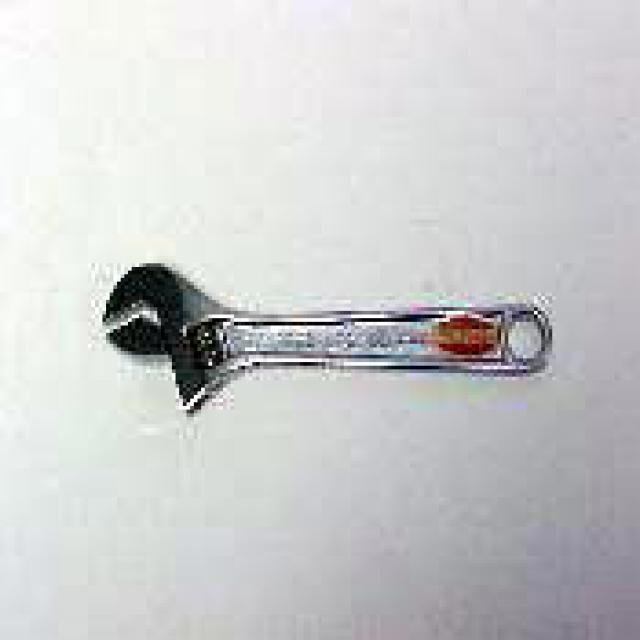wrench: (83, 251, 568, 423)
